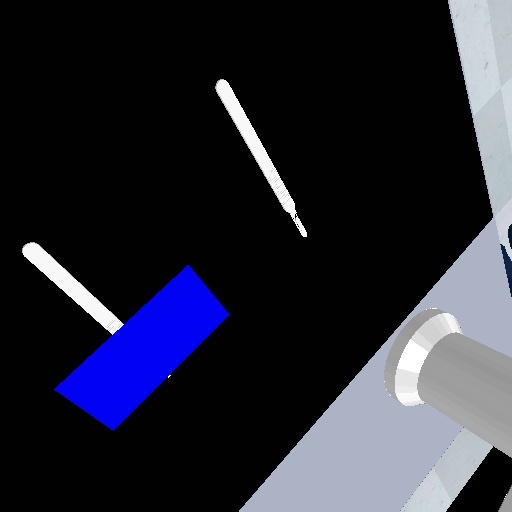bisturi: (211, 70, 312, 241), (19, 237, 126, 336)
